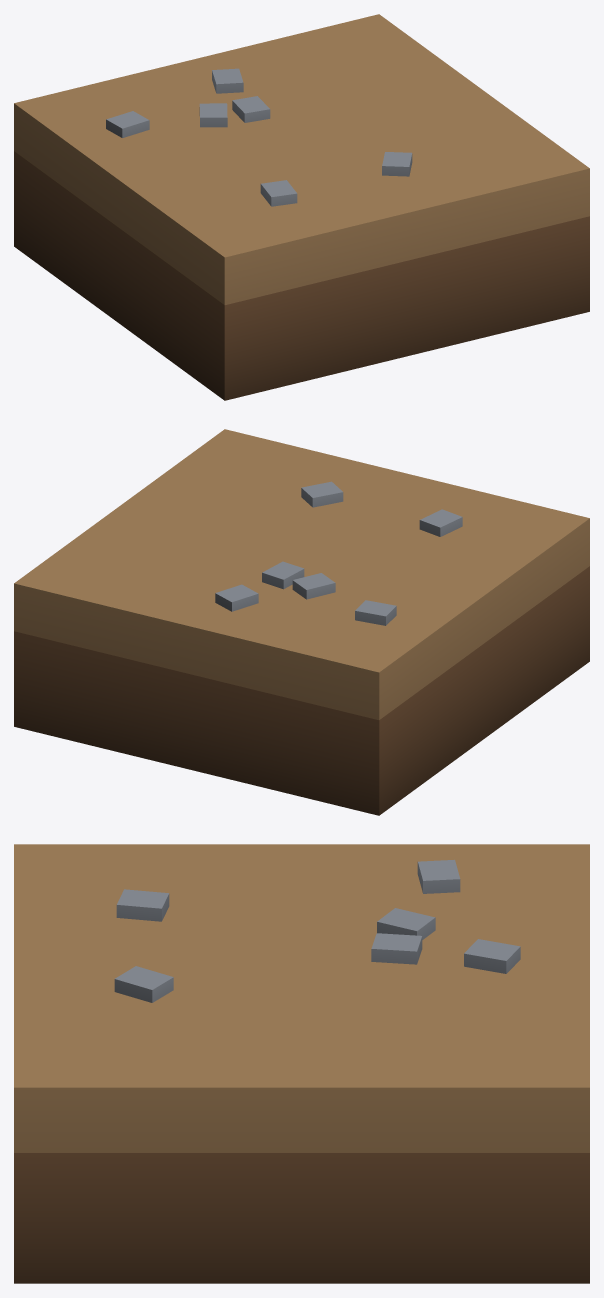
Rendered from D03_tile_path.glb.
The picture shows the model from 3 angles, top to bottom: view 1: azimuth 30°, elevation 25°; view 2: azimuth 150°, elevation 25°; view 3: azimuth 270°, elevation 25°; orthographic projection. The views are drawn at different scales.
Visible parts, largest first — view 1: D03_tile_path; view 2: D03_tile_path; view 3: D03_tile_path.
Part boxes in pixels (x1=…): D03_tile_path: x1=14, y1=14, x2=589, y2=400; D03_tile_path: x1=14, y1=429, x2=589, y2=815; D03_tile_path: x1=14, y1=844, x2=589, y2=1283.
Size of the model in its own units: 2 by 0.8 by 2.
